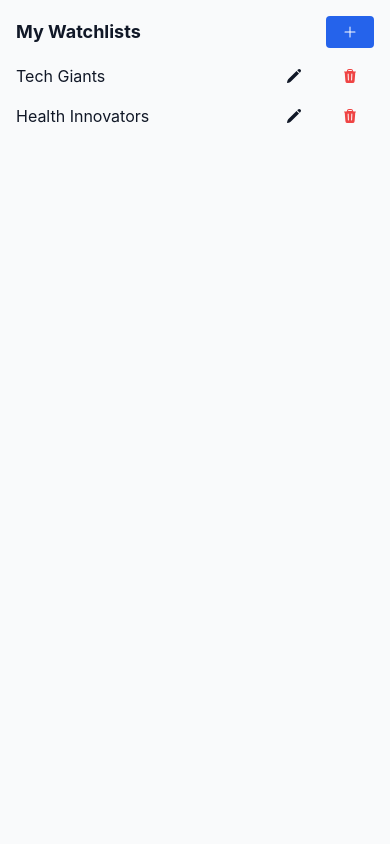
Scenario: WatchlistSelector › opens the form modal in create mode when the add button is clicked
The width and height of the screenshot is (390, 844).
Click the button named "add".
click(350, 32)  # box [326, 16, 374, 48]
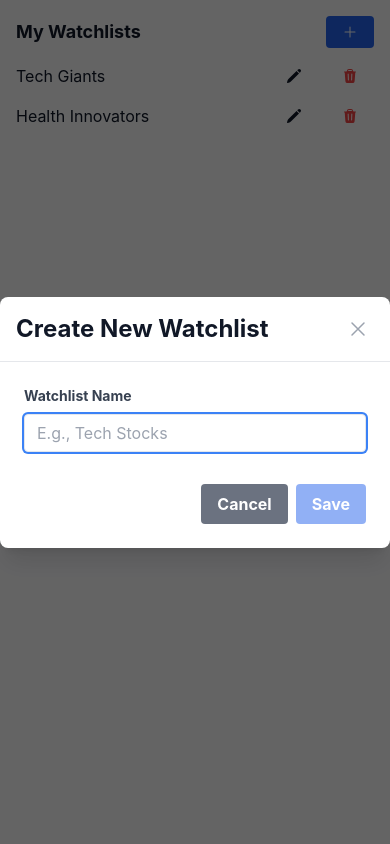
Now the heading "Create New Watchlist" is shown, box [16, 312, 269, 344]
